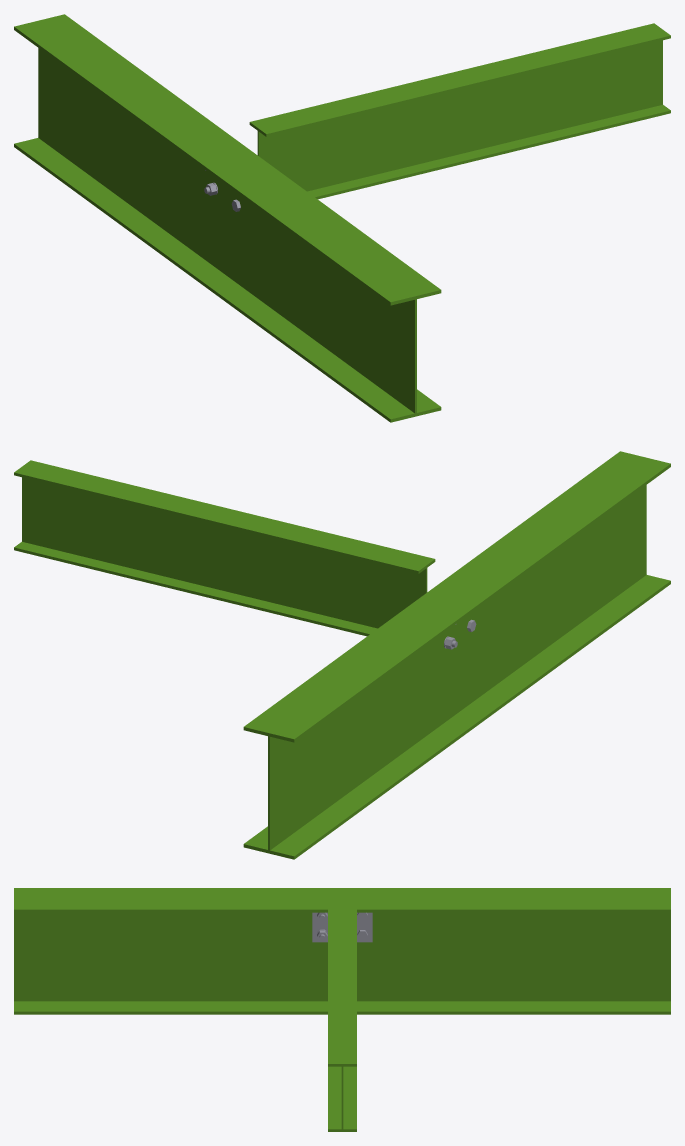
Rendered from Double Angle GLB.glb.
The picture shows the model from 3 angles, top to bottom: view 1: azimuth 30°, elevation 25°; view 2: azimuth 150°, elevation 25°; view 3: azimuth 270°, elevation 25°; orthographic projection. The views are drawn at different scales.
Visible parts, largest first — view 1: FamilyInstance Structural Framing BEAM 280 <1241315 BEAM 280, FamilyInstance Specialty Equipment BOLT 3/4"DIA A325 2" <124; view 2: FamilyInstance Structural Framing BEAM 280 <1241315 BEAM 280, FamilyInstance Specialty Equipment BOLT 3/4"DIA A325 2" <124; view 3: FamilyInstance Structural Framing BEAM 280 <1241315 BEAM 280, FamilyInstance Specialty Equipment BOLT 3/4"DIA A325 2" <124.
Part boxes in pixels (bbox=[...]): FamilyInstance Structural Framing BEAM 280 <1241315 BEAM 280: bbox=[14, 14, 441, 422]; FamilyInstance Specialty Equipment BOLT 3/4"DIA A325 2" <124: bbox=[204, 23, 670, 211]; FamilyInstance Structural Framing BEAM 280 <1241315 BEAM 280: bbox=[243, 451, 670, 859]; FamilyInstance Specialty Equipment BOLT 3/4"DIA A325 2" <124: bbox=[14, 460, 476, 649]; FamilyInstance Structural Framing BEAM 280 <1241315 BEAM 280: bbox=[14, 888, 670, 1014]; FamilyInstance Specialty Equipment BOLT 3/4"DIA A325 2" <124: bbox=[312, 892, 367, 1131].
Size of the model in its own units: 63.5 by 18.87 by 90.
